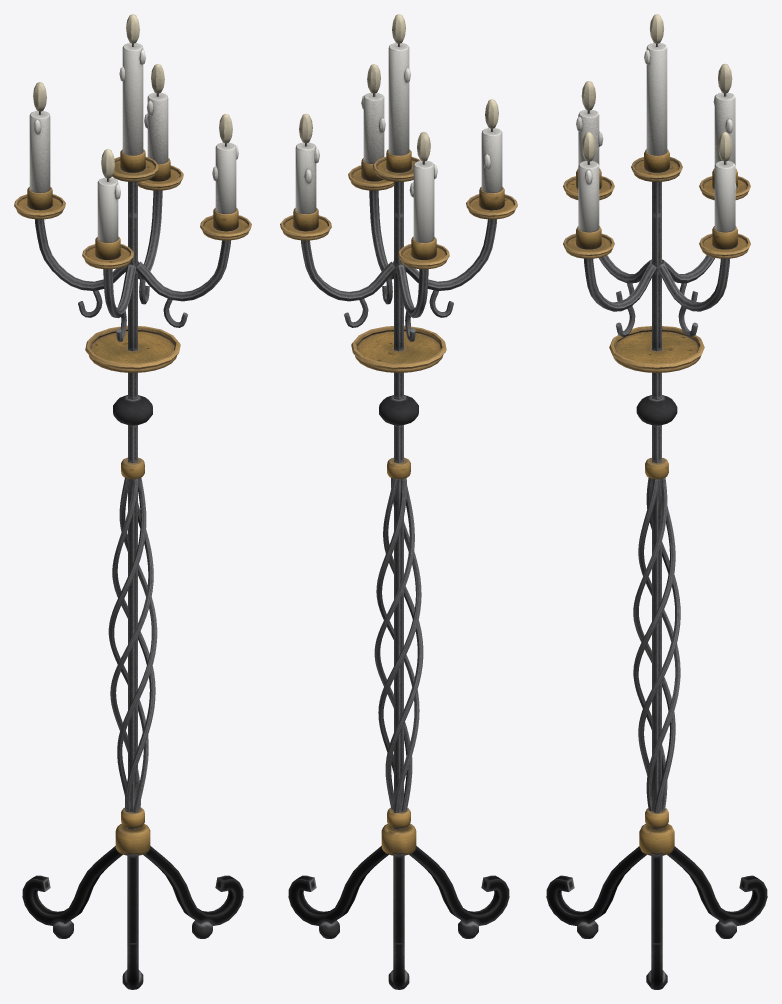
File: Candelabra.fbx
3 renders of one model, left to right at view 1: azimuth 30°, elevation 25°; view 2: azimuth 150°, elevation 25°; view 3: azimuth 270°, elevation 25°, orthographic.
Parts seen in each view (by area): view 1: Candelabra_Candelabra, Candelabra_Glow; view 2: Candelabra_Candelabra, Candelabra_Glow; view 3: Candelabra_Candelabra, Candelabra_Glow.
Boxes of the visible parts, <box> form: Candelabra_Candelabra: <box>14,43,251,989</box>; Candelabra_Glow: <box>33,14,232,178</box>; Candelabra_Candelabra: <box>280,43,517,989</box>; Candelabra_Glow: <box>299,14,498,161</box>; Candelabra_Candelabra: <box>546,43,767,989</box>; Candelabra_Glow: <box>581,14,732,161</box>.
Bounding box in the file's own units: 136 × 647 × 138.
